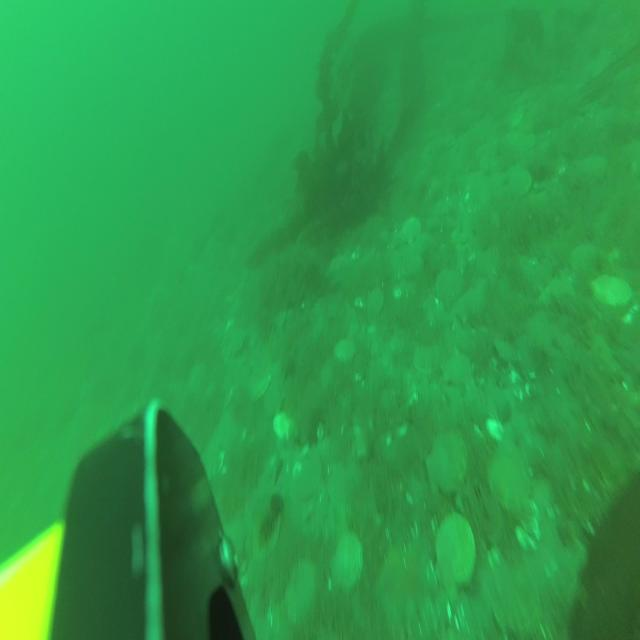scallop: (378, 547, 438, 639), (438, 515, 476, 589), (429, 429, 468, 498), (490, 445, 525, 520), (494, 570, 536, 630), (589, 269, 629, 315), (287, 566, 318, 623), (332, 536, 364, 588), (294, 456, 322, 499), (571, 240, 599, 282), (328, 463, 353, 509), (414, 343, 443, 381), (437, 269, 462, 308), (274, 410, 296, 447), (509, 166, 530, 202), (252, 372, 272, 408), (364, 284, 383, 316), (335, 337, 355, 367), (402, 216, 422, 240)
